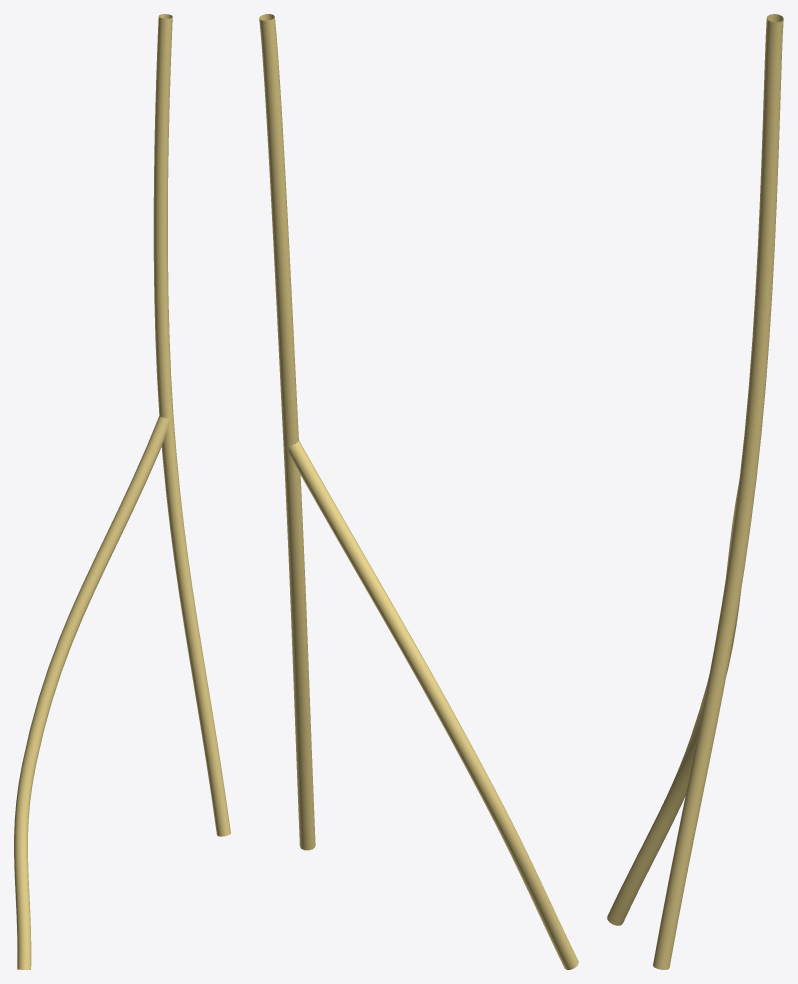
3 renders of one model, left to right at view 1: azimuth 30°, elevation 25°; view 2: azimuth 150°, elevation 25°; view 3: azimuth 270°, elevation 25°, orthographic. The views are drawn at different scales.
Visible parts, largest first — view 1: ZA_f49ae7b8927523ea; view 2: ZA_f49ae7b8927523ea; view 3: ZA_f49ae7b8927523ea.
Part boxes in pixels (x1,y1,x2,y2): ZA_f49ae7b8927523ea: (14, 14, 230, 969); ZA_f49ae7b8927523ea: (259, 14, 578, 969); ZA_f49ae7b8927523ea: (607, 14, 783, 969).
Size of the model in its own units: 0.0187 by 0.0663 by 0.0103.
